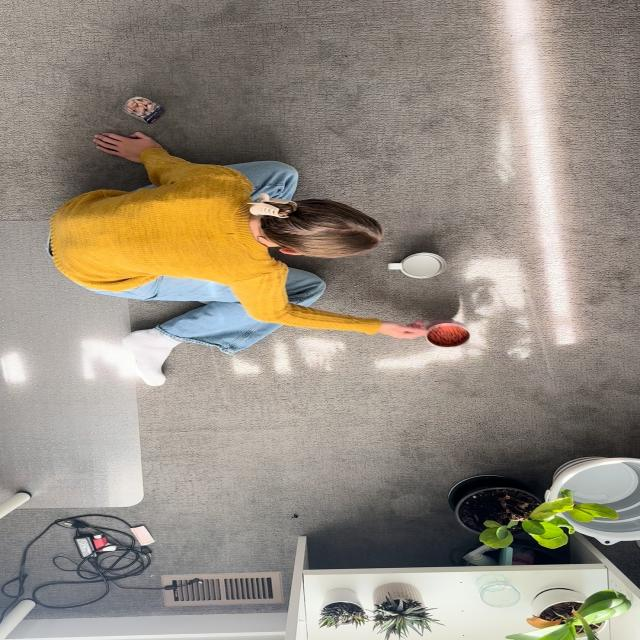IBC: (411, 320, 470, 347), (388, 252, 446, 278)
